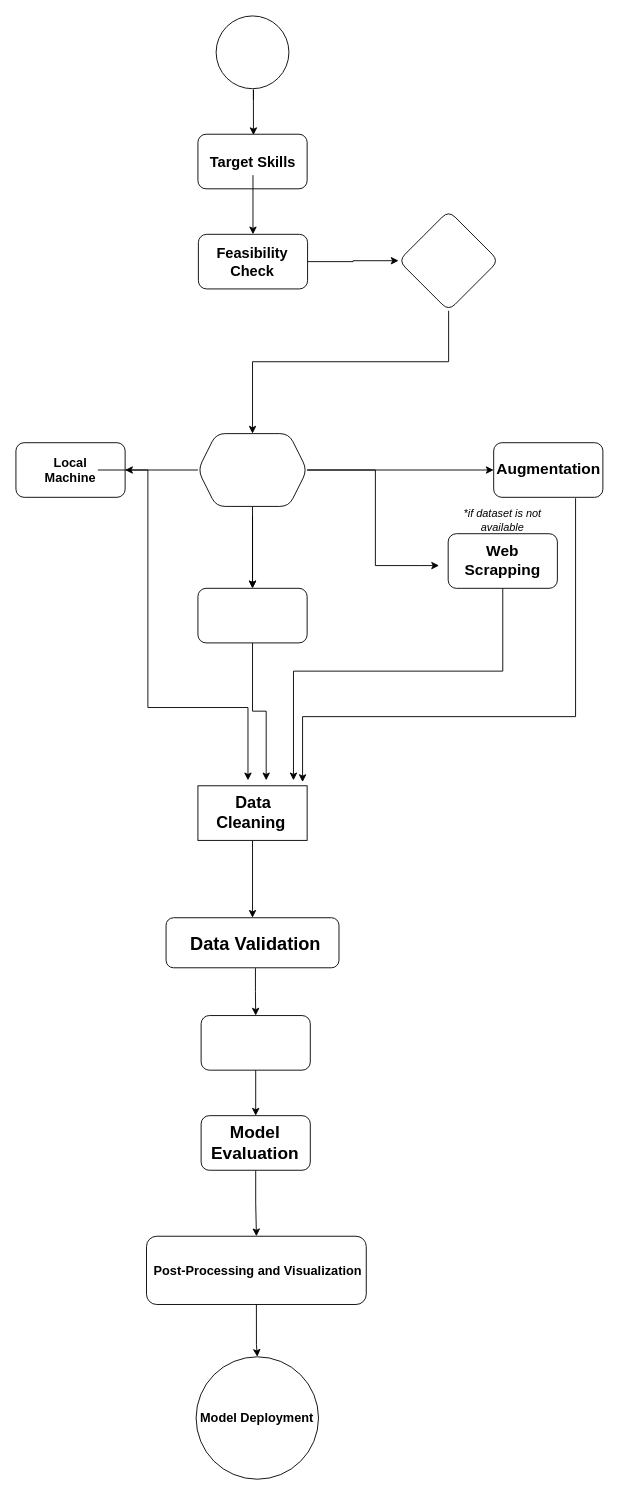
Some shapes in this 619 by 1495 pixel diagram are drawn without their labels. The box of each missing label's shape, as (x1, y1, x2, y2) in pixels:
Data Collection: (197, 433, 307, 506)
Domain Selection: (215, 15, 289, 89)
Model Development: (200, 1015, 310, 1070)
Paid API: (197, 587, 307, 643)
Time & Budget: (398, 210, 499, 311)
